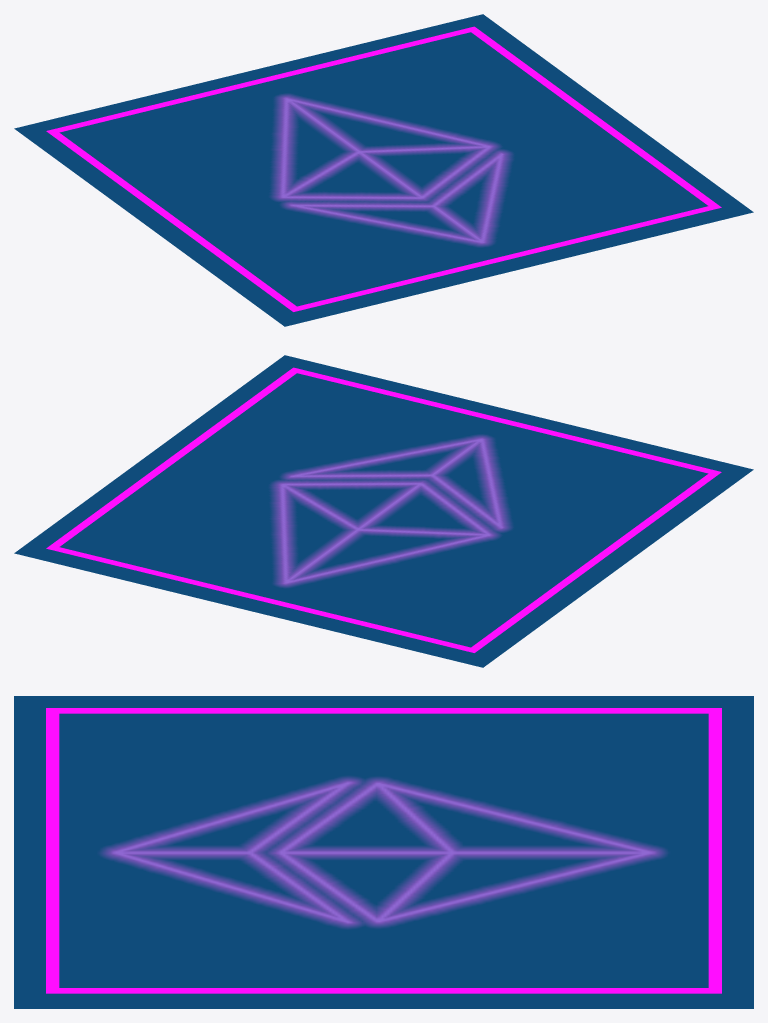
File: Etherium_plane.glb
The picture shows the model from 3 angles, top to bottom: view 1: azimuth 30°, elevation 25°; view 2: azimuth 150°, elevation 25°; view 3: azimuth 270°, elevation 25°; orthographic projection. The views are drawn at different scales.
Visible parts, largest first — view 1: Etherium_plane, Etherium_plane_light; view 2: Etherium_plane, Etherium_plane_light; view 3: Etherium_plane, Etherium_plane_light.
Boxes of the visible parts, bbox=[...] form: Etherium_plane: bbox=[14, 14, 753, 326]; Etherium_plane_light: bbox=[46, 26, 721, 311]; Etherium_plane: bbox=[14, 355, 753, 667]; Etherium_plane_light: bbox=[46, 367, 721, 652]; Etherium_plane: bbox=[14, 696, 753, 1008]; Etherium_plane_light: bbox=[46, 708, 721, 993].
Size of the model in its own units: 1 by 0.00231 by 1.
2 materials, 1 textured.
